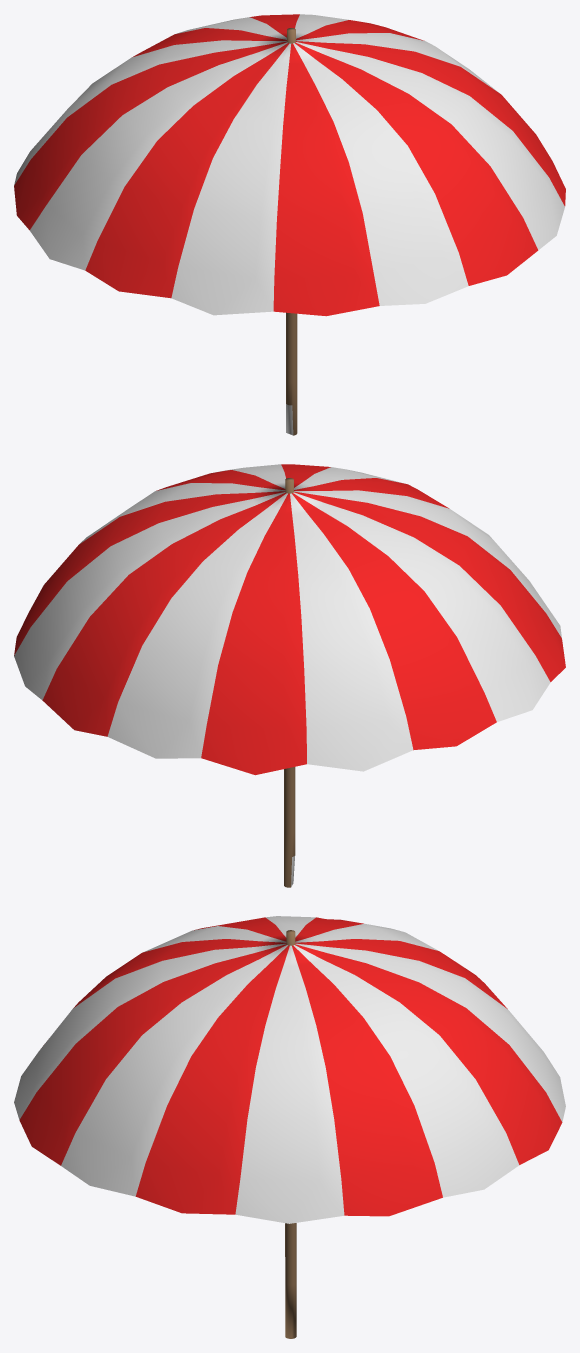
The model's file is SombrillaPlaya.glb.
The picture shows the model from 3 angles, top to bottom: view 1: azimuth 30°, elevation 25°; view 2: azimuth 150°, elevation 25°; view 3: azimuth 270°, elevation 25°; orthographic projection.
Visible parts, largest first — view 1: Sphere; view 2: Sphere; view 3: Sphere.
Part boxes in pixels (left/top/right/bottom): Sphere: left=14, top=14, right=565, bottom=435; Sphere: left=14, top=464, right=565, bottom=887; Sphere: left=14, top=916, right=565, bottom=1338.
Size of the model in its own units: 3.08 by 2.47 by 3.06.
